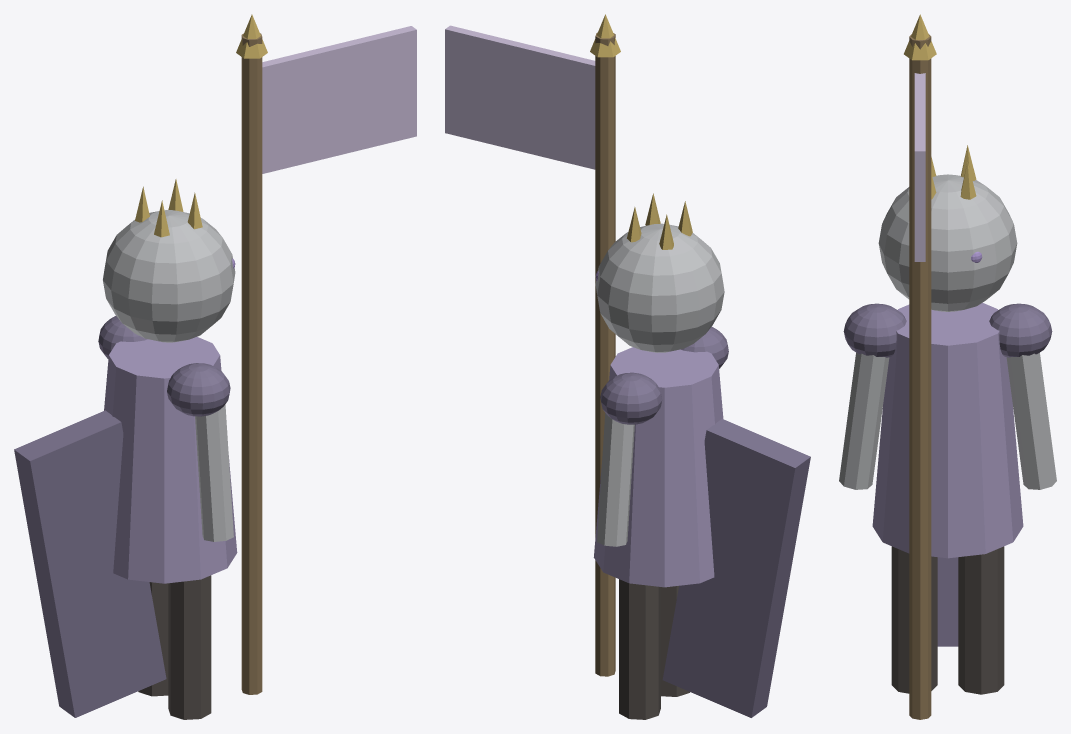
Rendered from hero_vhorren_4.glb.
3 views of the same model, side by side, from view 1: azimuth 30°, elevation 25°; view 2: azimuth 150°, elevation 25°; view 3: azimuth 270°, elevation 25° (orthographic). The views are drawn at different scales.
Parts seen in each view (by area): view 1: figurka; view 2: figurka; view 3: figurka.
Boxes of the visible parts, box(x1,y1,x2,y2) form: figurka: box(14, 14, 416, 719); figurka: box(445, 14, 810, 719); figurka: box(839, 14, 1056, 719).
Size of the model in its own units: 0.8172 by 1.4 by 0.393.
